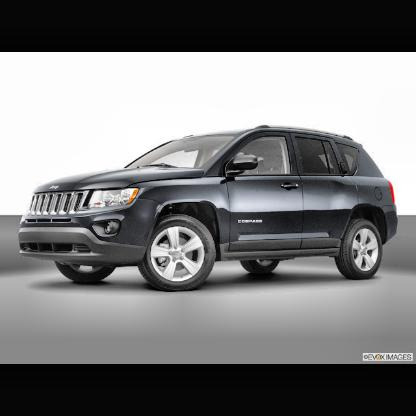Jeep Compass SUV 2012: (19, 126, 400, 292)
